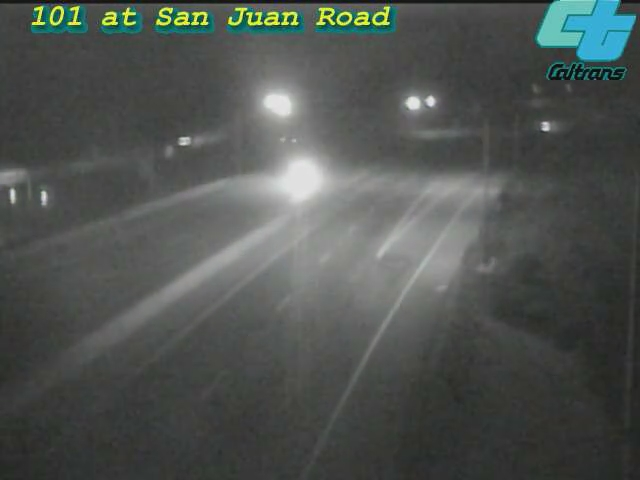vehicle: (261, 135, 341, 215)
